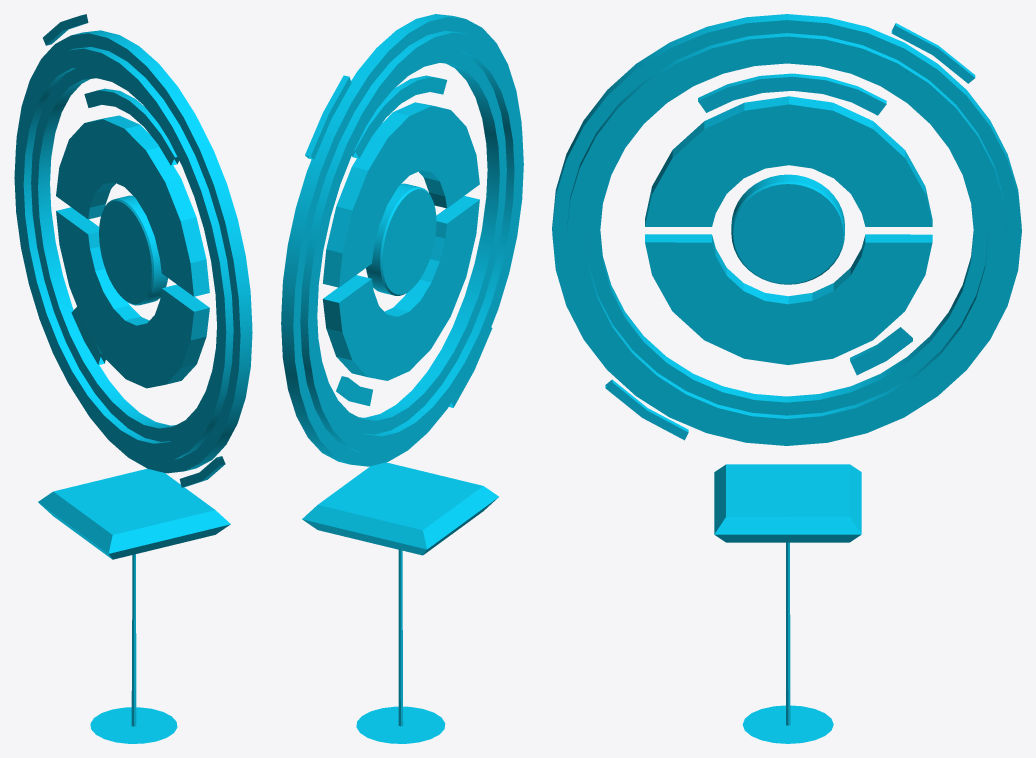
Rendered from PokestopNear.obj.
3 renders of one model, left to right at view 1: azimuth 30°, elevation 25°; view 2: azimuth 150°, elevation 25°; view 3: azimuth 270°, elevation 25°, orthographic. The views are drawn at different scales.
Visible parts, largest first — view 1: PokestopNear; view 2: PokestopNear; view 3: PokestopNear.
Boxes of the visible parts, x1,y1,x2,y2 form: PokestopNear: [14, 14, 252, 743]; PokestopNear: [281, 14, 523, 743]; PokestopNear: [552, 14, 1021, 743].
Size of the model in its own units: 1.54 by 8.14 by 4.9.
1 material, 1 textured.
